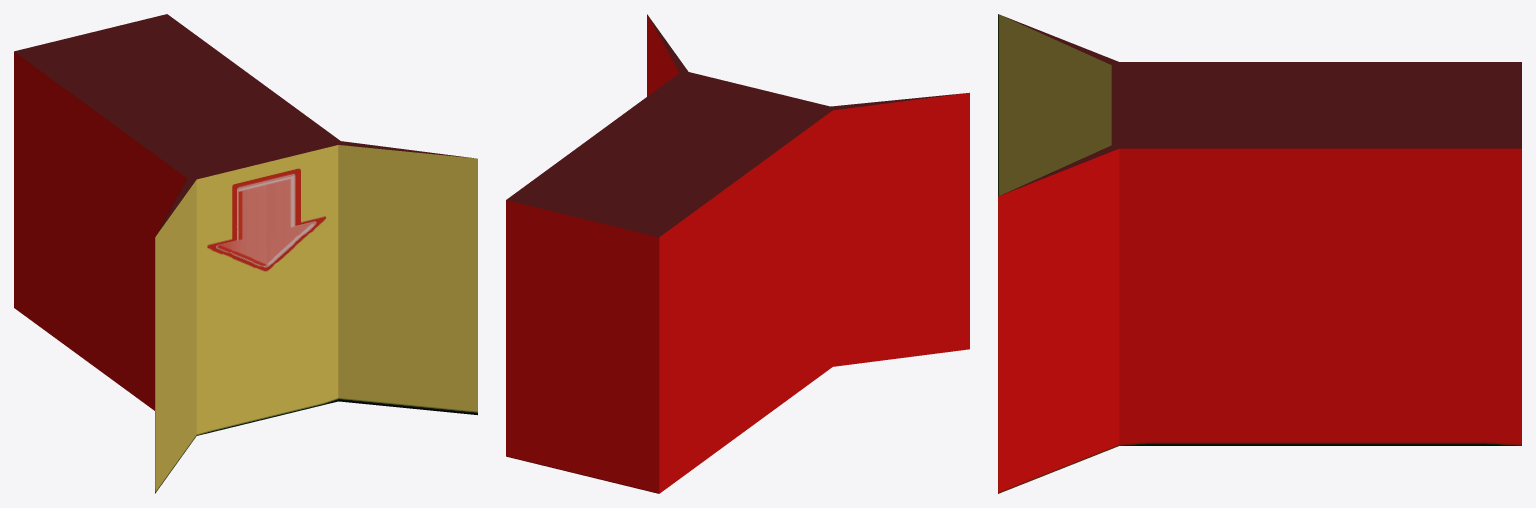
Rendered from ground.FBX.
The picture shows the model from 3 angles, left to right: view 1: azimuth 30°, elevation 25°; view 2: azimuth 150°, elevation 25°; view 3: azimuth 270°, elevation 25°; orthographic projection. The views are drawn at different scales.
Visible parts, largest first — view 1: Box001; view 2: Box001; view 3: Box001.
Part boxes in pixels (x1,y1,x2,y2): Box001: (14,14,477,493); Box001: (506,14,969,493); Box001: (998,14,1521,493).
Size of the model in its own units: 10.54 by 8 by 12.77.
Materials: 1 (1 with a texture image).
